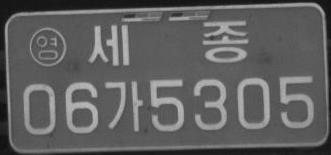0: (236, 77, 271, 130), (23, 82, 56, 135)
3: (193, 77, 228, 131)
5: (148, 77, 185, 133), (278, 74, 314, 129)
6: (64, 80, 99, 134)
가: (103, 79, 142, 132)
세종_D: (88, 19, 250, 67)
영: (29, 26, 66, 67)
